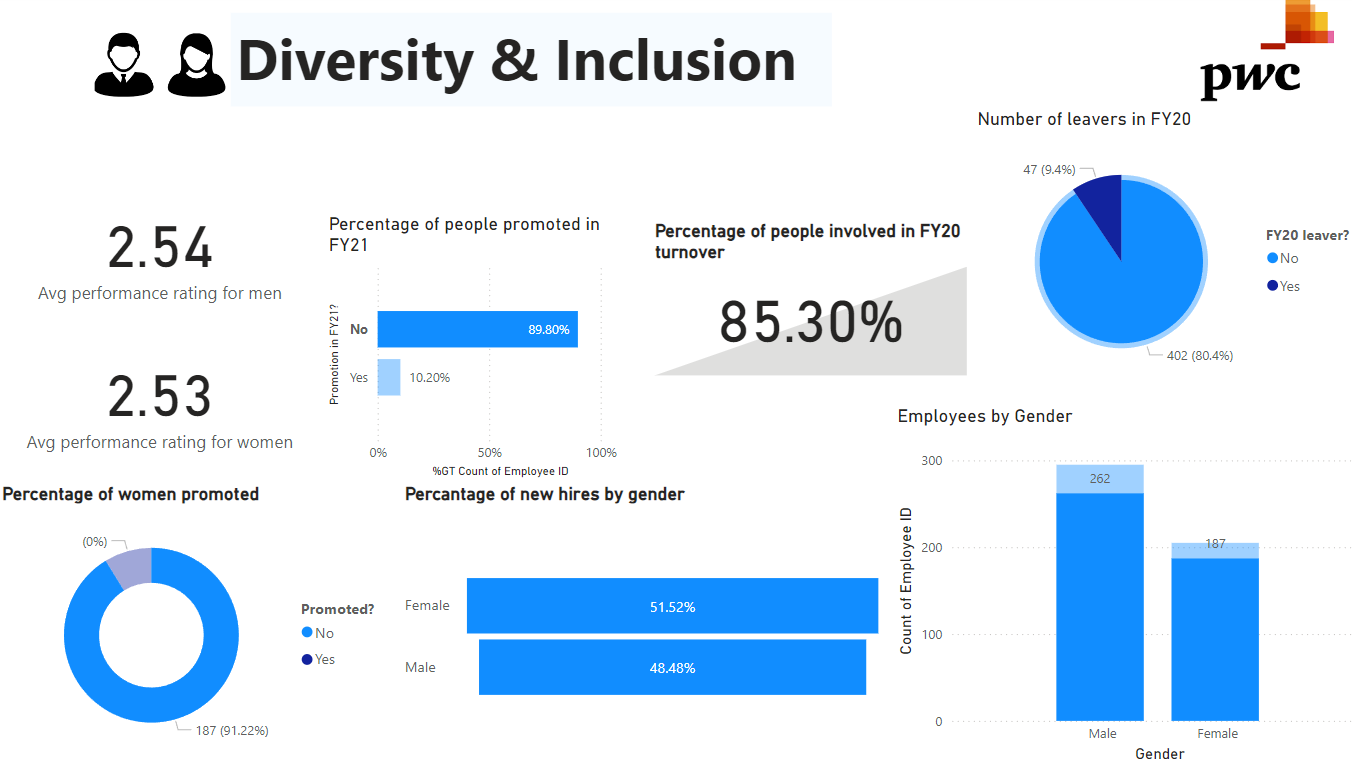

What the dashboard file says about the page in this screenshot:
{"tool":"powerbi","page":{"name":"Page 1","canvas":[1280,720],"ordinal":0},"visuals":[{"type":"pieChart","title":"Number of leavers in FY20","fields":{"Y":["CountNonNull(Pharma Group AG.Employee ID)"],"Category":["Pharma Group AG.FY20 leaver?"]},"box":[907,105.8,373.3,267.4],"z":0},{"type":"clusteredBarChart","title":"Percentage of people promoted in FY21","fields":{"Category":["Pharma Group AG.Promotion in FY21?"],"Y":["Divide(CountNonNull(Pharma Group AG.Employee ID), ScopedEval(CountNonNull(Pharma Group AG.Employee ID), []))"]},"box":[303.3,203.1,299.1,251.1],"z":1000},{"type":"clusteredColumnChart","title":"Employees by Gender","fields":{"Category":["Pharma Group AG.Gender"],"Y":["CountNonNull(Pharma Group AG.Employee ID)"]},"box":[832.9,382.8,447.3,337.6],"z":2000},{"type":"donutChart","title":"Percentage of women promoted","fields":{"Category":["Pharma Group AG.Promotion in FY21?"],"Y":["CountNonNull(Pharma Group AG.Employee ID)"],"Series":["Pharma Group AG.Promotion in FY21?"]},"box":[0,454.2,374.6,264.8],"z":3000},{"type":"funnel","title":"Percantage of new hires by gender","fields":{"Category":["Pharma Group AG.Gender","Pharma Group AG.New hire FY20?"],"Y":["Divide(CountNonNull(Pharma Group AG.Employee ID), ScopedEval(CountNonNull(Pharma Group AG.Employee ID), []))"]},"box":[374.6,454.2,455.6,266.2],"z":4000},{"type":"kpi","title":"Percentage of people involved in FY20 turnover","fields":{"TrendLine":["Pharma Group AG.In base group for turnover FY20"],"Indicator":["Divide(CountNonNull(Pharma Group AG.Employee ID), ScopedEval(CountNonNull(Pharma Group AG.Employee ID), []))"]},"box":[606.5,209.9,300.5,149.6],"z":5000},{"type":"card","fields":{"Values":["Pharma Group AG.Measure"]},"box":[0,170.2,303.3,138.6],"z":6000},{"type":"card","fields":{"Values":["Pharma Group AG.Measure"]},"box":[0,308.7,303.3,137.2],"z":7000},{"type":"textbox","box":[217.4,17.4,559.3,87.2],"z":8000},{"type":"image","box":[1083.7,0,196.5,104.7],"z":9000},{"type":"image","box":[86,5.8,131.4,110.5],"z":10000}]}

Visuals, with their boxes in screenshot pixels (x1, y1, x2, y2), scaled from the page's 1280x720 canvas onto the 1352x761 screenshot:
"Number of leavers in FY20" pieChart: box=[958, 112, 1351, 394]
"Percentage of people promoted in FY21" clusteredBarChart: box=[320, 215, 636, 480]
"Employees by Gender" clusteredColumnChart: box=[880, 405, 1351, 760]
"Percentage of women promoted" donutChart: box=[0, 480, 396, 760]
"Percantage of new hires by gender" funnel: box=[396, 480, 877, 760]
"Percentage of people involved in FY20 turnover" kpi: box=[641, 222, 958, 380]
card - Pharma Group AG.Measure: box=[0, 180, 320, 326]
card - Pharma Group AG.Measure: box=[0, 326, 320, 471]
textbox: box=[230, 18, 820, 111]
image: box=[1145, 0, 1351, 111]
image: box=[91, 6, 230, 123]
